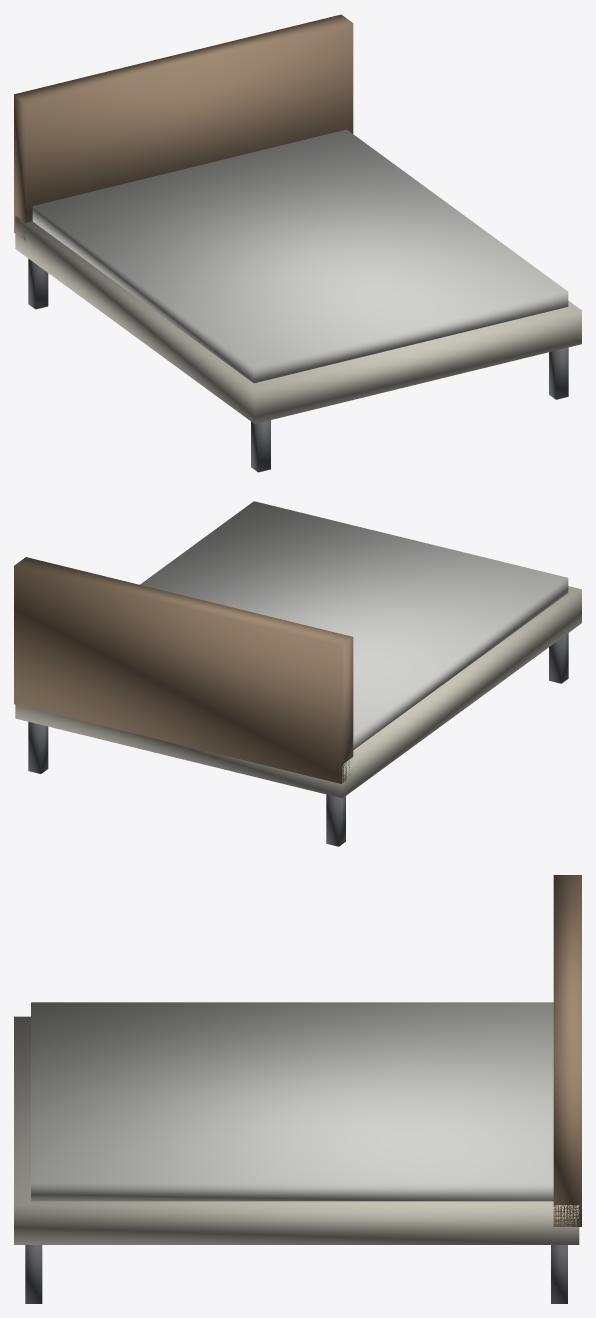
Rendered from double_bed__squat.glb.
3 renders of one model, top to bottom at view 1: azimuth 30°, elevation 25°; view 2: azimuth 150°, elevation 25°; view 3: azimuth 270°, elevation 25°, orthographic. The views are drawn at different scales.
Visible parts, largest first — view 1: world; view 2: world; view 3: world.
Part boxes in pixels (x1,y1,x2,y2): world: (14,14,581,472); world: (14,501,581,846); world: (14,875,581,1303).
Bounding box in the file's own units: 1.7 × 1.03 × 2.17.
